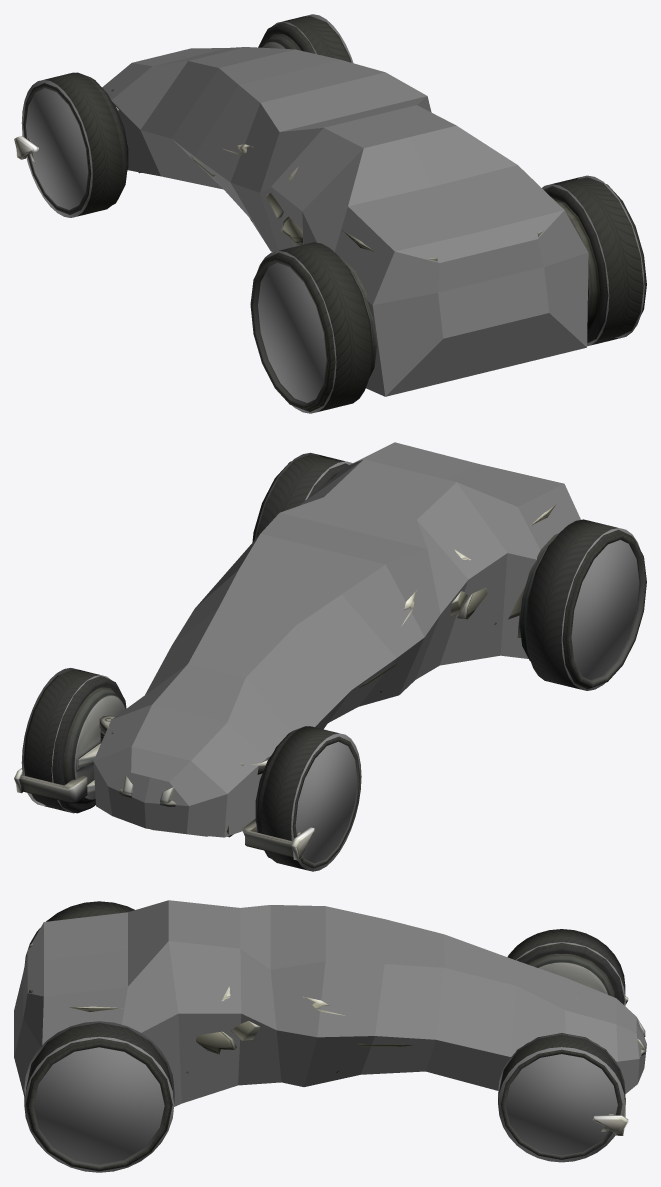
Rendered from car.obj.
3 renders of one model, top to bottom at view 1: azimuth 30°, elevation 25°; view 2: azimuth 150°, elevation 25°; view 3: azimuth 270°, elevation 25°, orthographic. The views are drawn at different scales.
Parts seen in each view (by area): view 1: Car_Con_Box_Cube.014, Back_Wheel_Force_1_L_Back_Wheel_Force, Front_Wheel_Force_1_L_Front_Wheel_Force, Back_Wheel_Mesh_1_R_Cube.003, Back_Wheel_Mesh_1_L_Cube.002, Front_Steering_Mesh_2_R_Cube.004, Front_Wheel_Mesh_2_L_Cube.009, Back_Suspension_R_Cube.001, Car_Mesh_Cube.012, Back_Wheel_Force_1_R_Back_Wheel_Force.001; view 2: Car_Con_Box_Cube.014, Back_Wheel_Force_1_L_Back_Wheel_Force, Front_Wheel_Force_1_L_Front_Wheel_Force, Front_Steering_Mesh_2_R_Cube.004, Front_Wheel_Mesh_1_R_Cube.005, Back_Wheel_Mesh_1_L_Cube.002, Back_Wheel_Mesh_1_R_Cube.003, Car_Mesh_Cube.012, Front_Wheel_Mesh_2_L_Cube.009, Front_Steering_Mesh_1_L_Cube.010, Front_Wheel_Force_1_R_Front_Wheel_Force.001, Back_Suspension_L_Cube.007; view 3: Car_Con_Box_Cube.014, Back_Wheel_Force_1_R_Back_Wheel_Force.001, Front_Wheel_Force_1_R_Front_Wheel_Force.001, Back_Wheel_Mesh_1_R_Cube.003, Front_Steering_Mesh_2_R_Cube.004, Car_Mesh_Cube.012, Front_Wheel_Force_1_L_Front_Wheel_Force, Front_Steering_Mesh_1_L_Cube.010, Front_Wheel_Mesh_2_L_Cube.009, Back_Wheel_Force_1_L_Back_Wheel_Force, Front_Wheel_Mesh_1_R_Cube.005.
Boxes of the visible parts, x1,y1,x2,y2 form: Car_Con_Box_Cube.014: (102, 47, 588, 396); Back_Wheel_Force_1_L_Back_Wheel_Force: (257, 242, 371, 413); Front_Wheel_Force_1_L_Front_Wheel_Force: (21, 72, 122, 217); Back_Wheel_Mesh_1_R_Cube.003: (544, 177, 646, 342); Back_Wheel_Mesh_1_L_Cube.002: (250, 252, 373, 411); Front_Steering_Mesh_2_R_Cube.004: (258, 16, 351, 62); Front_Wheel_Mesh_2_L_Cube.009: (23, 72, 127, 214); Back_Suspension_R_Cube.001: (552, 198, 599, 329); Car_Mesh_Cube.012: (109, 56, 543, 261); Back_Wheel_Force_1_R_Back_Wheel_Force.001: (542, 175, 644, 346); Car_Con_Box_Cube.014: (93, 442, 580, 837); Back_Wheel_Force_1_L_Back_Wheel_Force: (526, 519, 640, 690); Front_Wheel_Force_1_L_Front_Wheel_Force: (261, 726, 361, 871); Front_Steering_Mesh_2_R_Cube.004: (23, 669, 126, 813); Front_Wheel_Mesh_1_R_Cube.005: (14, 687, 125, 803); Back_Wheel_Mesh_1_L_Cube.002: (524, 529, 646, 689); Back_Wheel_Mesh_1_R_Cube.003: (252, 454, 348, 542); Car_Mesh_Cube.012: (95, 504, 556, 837); Front_Wheel_Mesh_2_L_Cube.009: (255, 726, 360, 868); Front_Steering_Mesh_1_L_Cube.010: (242, 755, 314, 860); Front_Wheel_Force_1_R_Front_Wheel_Force.001: (21, 668, 110, 813); Back_Suspension_L_Cube.007: (519, 533, 558, 660); Car_Con_Box_Cube.014: (14, 900, 646, 1106); Back_Wheel_Force_1_R_Back_Wheel_Force.001: (24, 1021, 174, 1172); Front_Wheel_Force_1_R_Front_Wheel_Force.001: (498, 1034, 625, 1162); Back_Wheel_Mesh_1_R_Cube.003: (25, 1022, 172, 1171); Front_Steering_Mesh_2_R_Cube.004: (499, 1033, 624, 1159); Car_Mesh_Cube.012: (29, 943, 645, 1074); Front_Wheel_Force_1_L_Front_Wheel_Force: (507, 929, 625, 1005); Front_Steering_Mesh_1_L_Cube.010: (528, 954, 628, 1006); Front_Wheel_Mesh_2_L_Cube.009: (517, 943, 624, 1004); Back_Wheel_Force_1_L_Back_Wheel_Force: (24, 901, 134, 964); Front_Wheel_Mesh_1_R_Cube.005: (593, 1097, 628, 1135).
Bounding box in the file's own units: 3.65 × 2.24 × 6.98.
7 materials, 6 textured.
